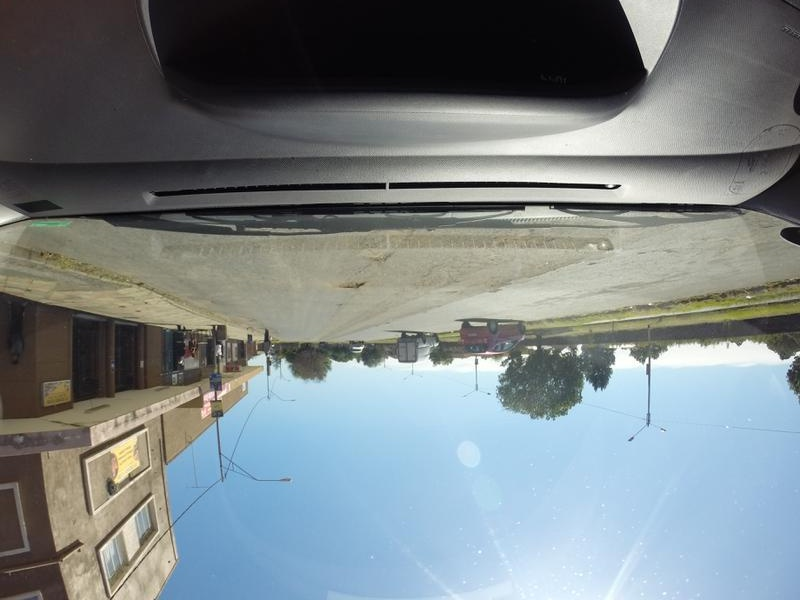pothole: (329, 248, 397, 268), (326, 277, 368, 294)
